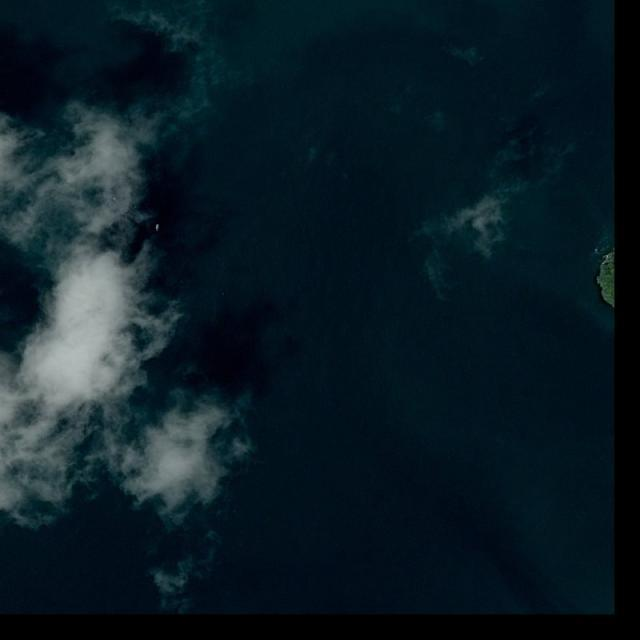ship: (101, 193, 145, 225), (155, 225, 159, 232)
